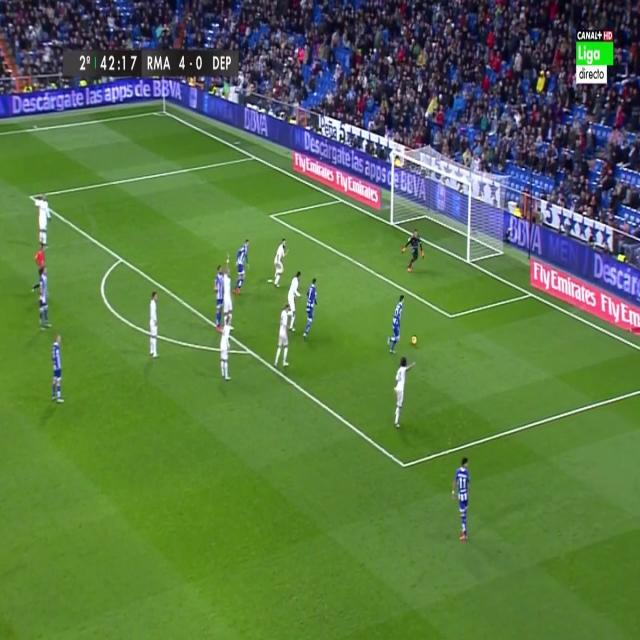Ball: (410, 333, 418, 347)
Goalkeeper: (400, 226, 426, 273)
Player: (392, 354, 419, 432), (452, 455, 472, 543), (271, 304, 292, 371), (30, 191, 52, 249), (386, 294, 407, 353), (49, 332, 65, 408), (232, 238, 252, 298), (270, 237, 290, 291), (302, 276, 318, 342), (288, 268, 303, 335), (38, 266, 53, 333), (148, 291, 162, 360), (219, 316, 233, 383), (213, 262, 224, 334), (221, 263, 233, 324)
Referee: (28, 242, 47, 293)
